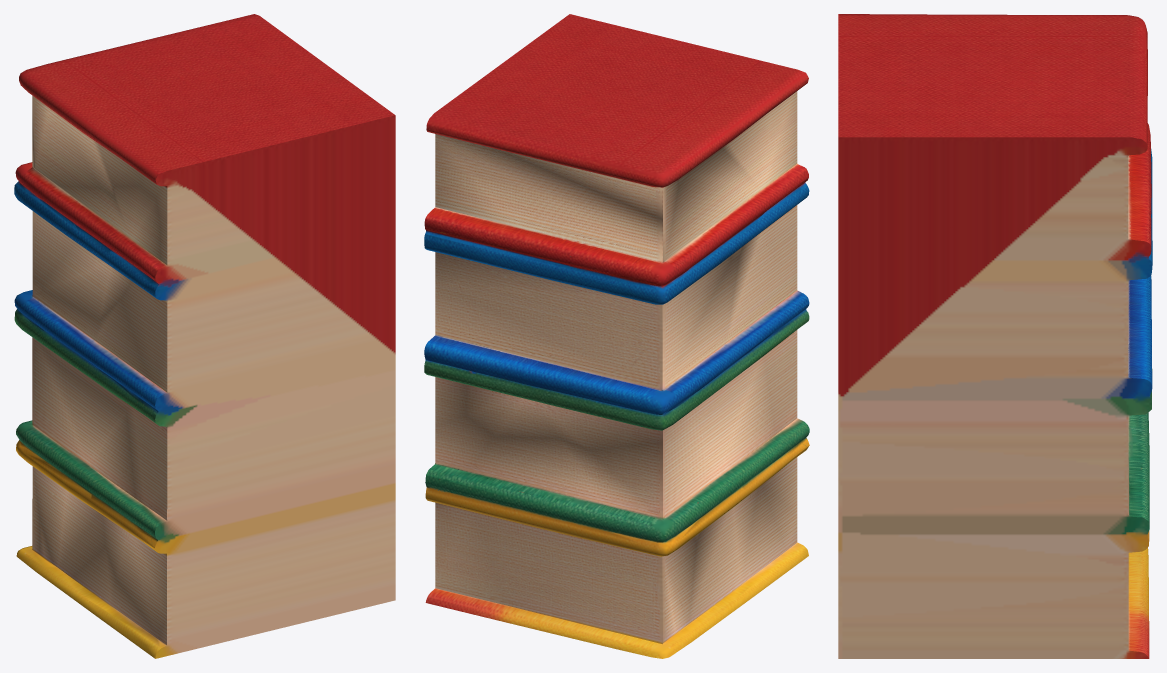
File: 15-topper-back-left.fbx
3 renders of one model, left to right at view 1: azimuth 30°, elevation 25°; view 2: azimuth 150°, elevation 25°; view 3: azimuth 270°, elevation 25°, orthographic. The views are drawn at different scales.
Parts seen in each view (by area): view 1: topper-back-left; view 2: topper-back-left; view 3: topper-back-left.
Part boxes in pixels (x1=…): topper-back-left: x1=14, y1=14, x2=395, y2=658; topper-back-left: x1=424, y1=14, x2=809, y2=658; topper-back-left: x1=838, y1=14, x2=1152, y2=658.
Size of the model in its own units: 6019 by 11560 by 6313.
1 material, 1 textured.
